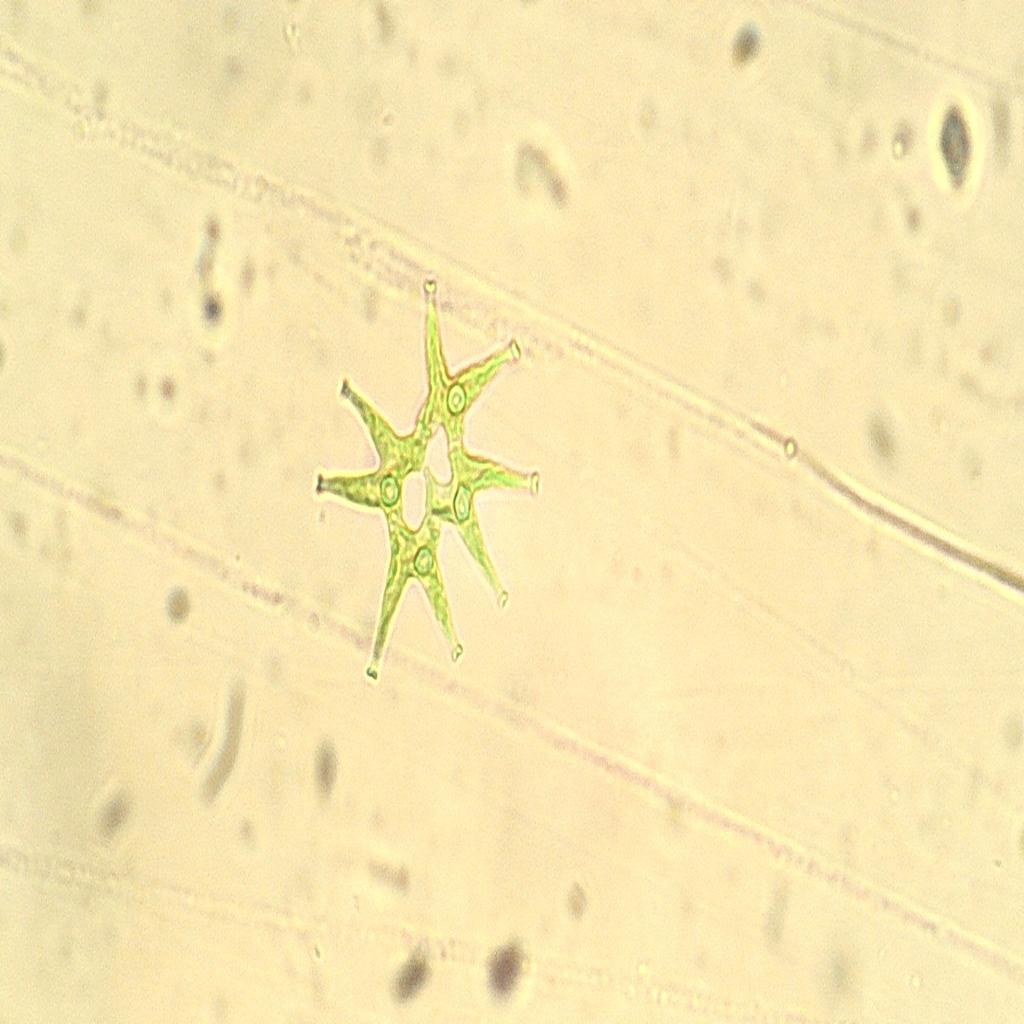Pediastrum_75FO: (308, 248, 553, 699)
